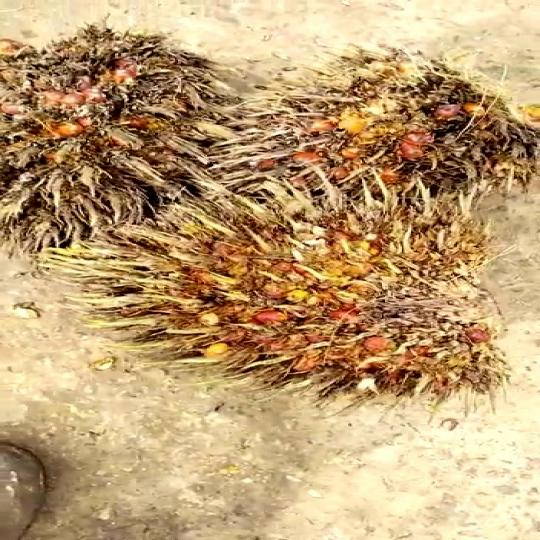terlalu masak: (93, 185, 506, 402), (197, 56, 538, 206), (0, 32, 228, 248)
